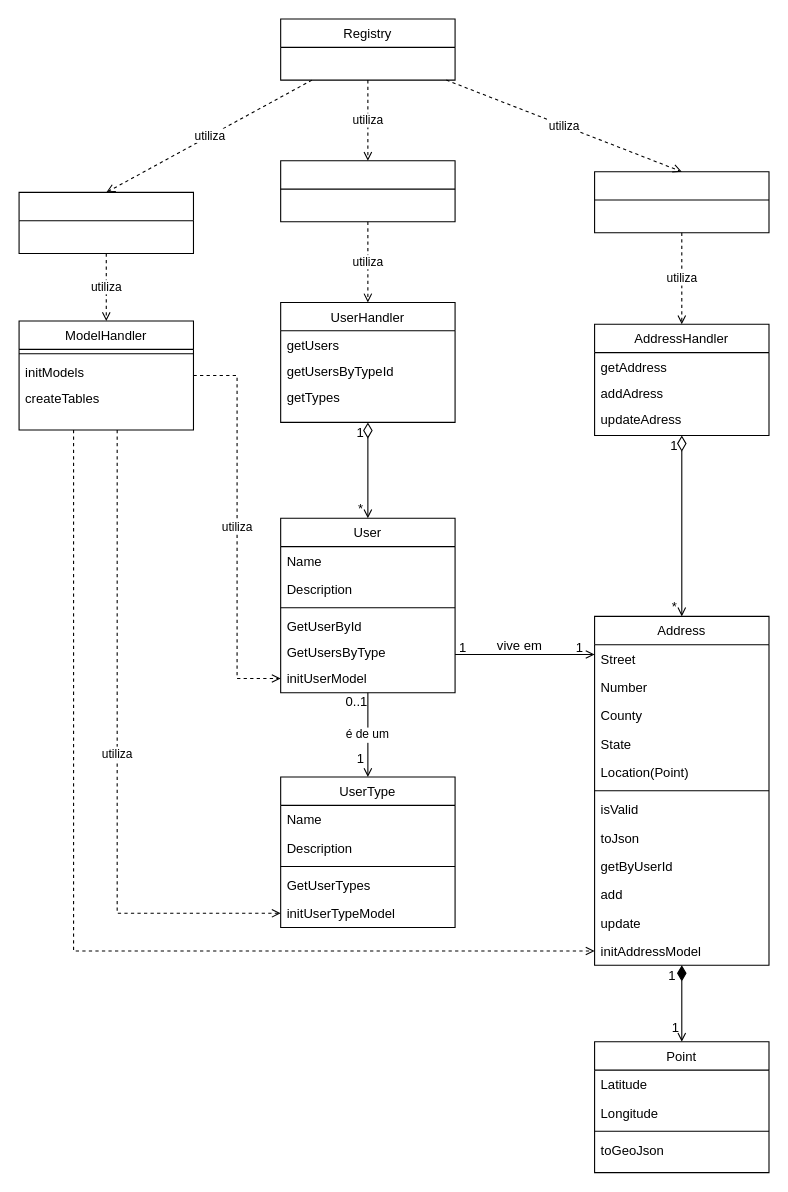
This 788x1192 diagram has some shape labels left out. Each missing label, with the centre of its shape:
"AddressRouter" goes at point (681, 202).
"ModelRouter" goes at point (105, 222).
"UserRouter" goes at point (367, 191).
